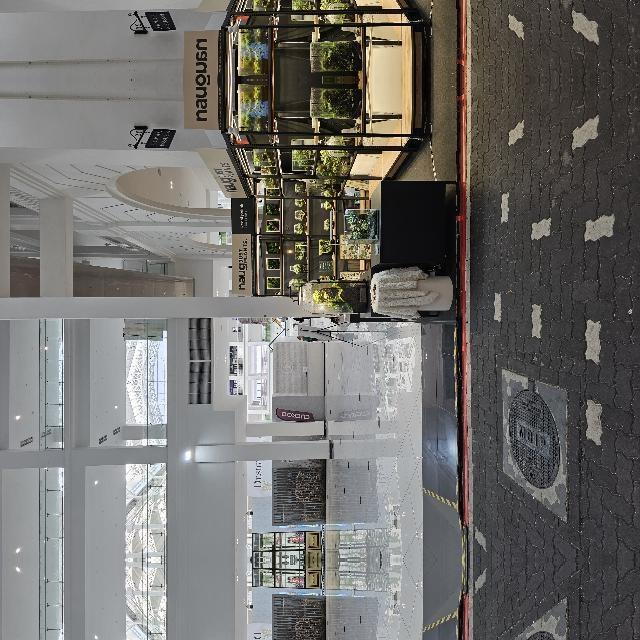obstacle: (264, 266, 480, 464), (237, 441, 381, 539), (237, 581, 381, 640)
